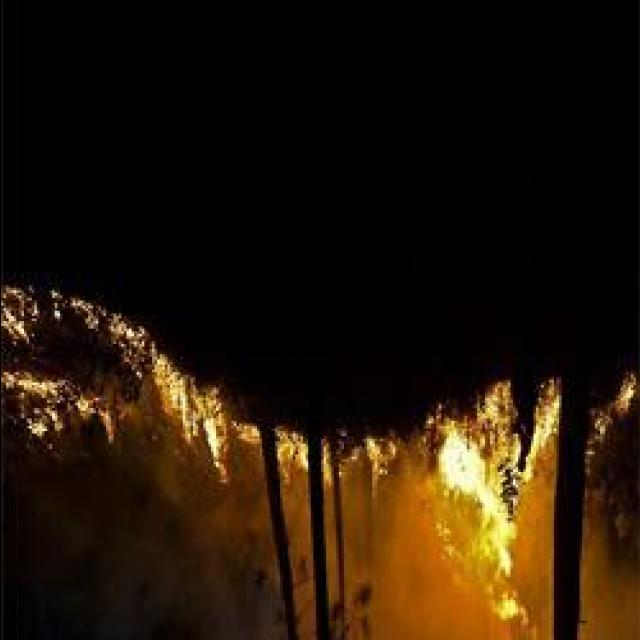fire: (428, 413, 540, 627), (148, 356, 232, 469)
